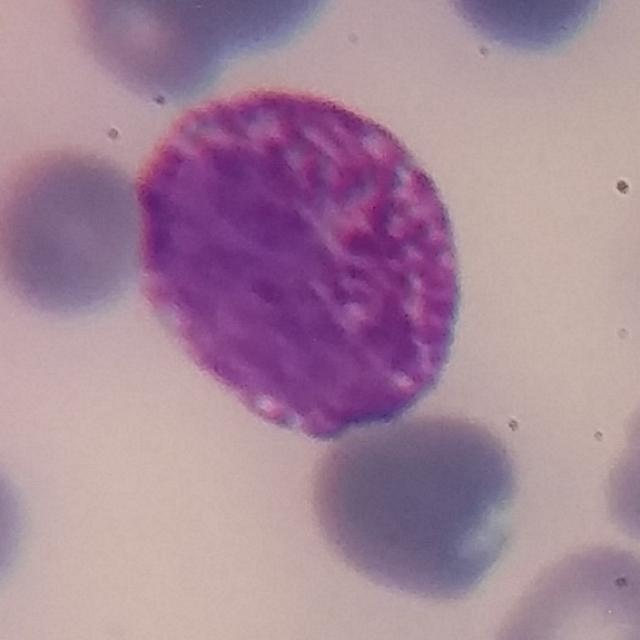baso: (134, 84, 468, 448)
